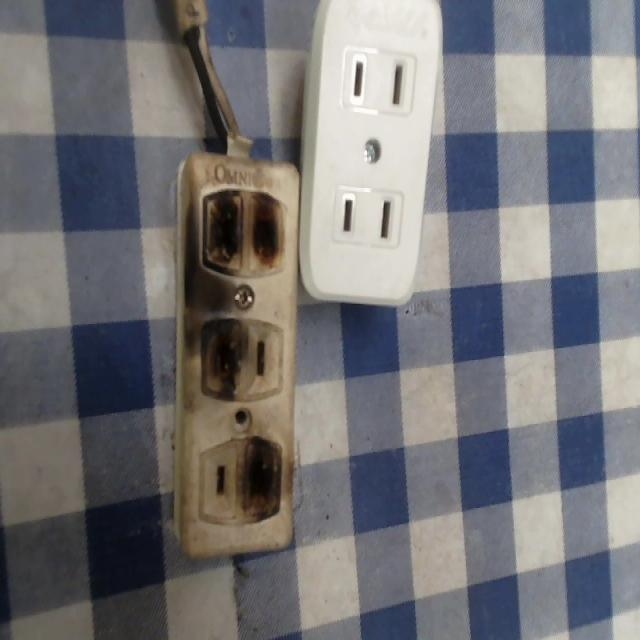-: (185, 189, 292, 287), (186, 313, 251, 403), (235, 431, 290, 525)
